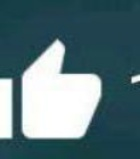ImgButton: (1, 1, 139, 158)
